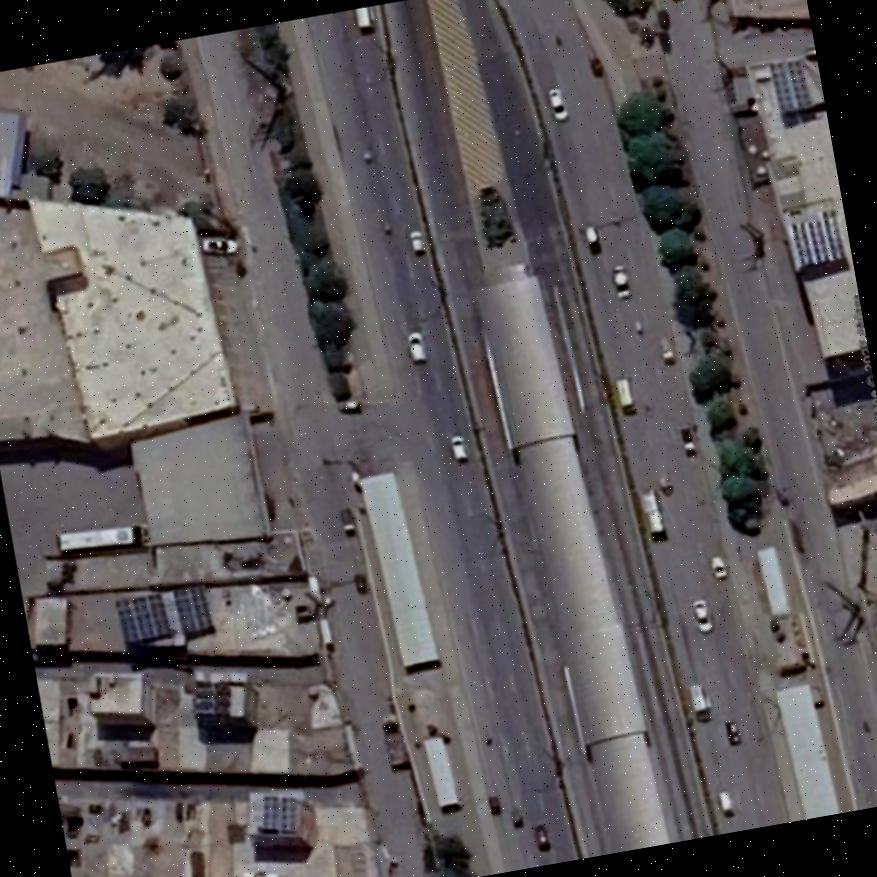Solarpanel: (112, 594, 169, 644), (772, 61, 808, 112), (173, 587, 211, 632), (264, 794, 293, 833)
